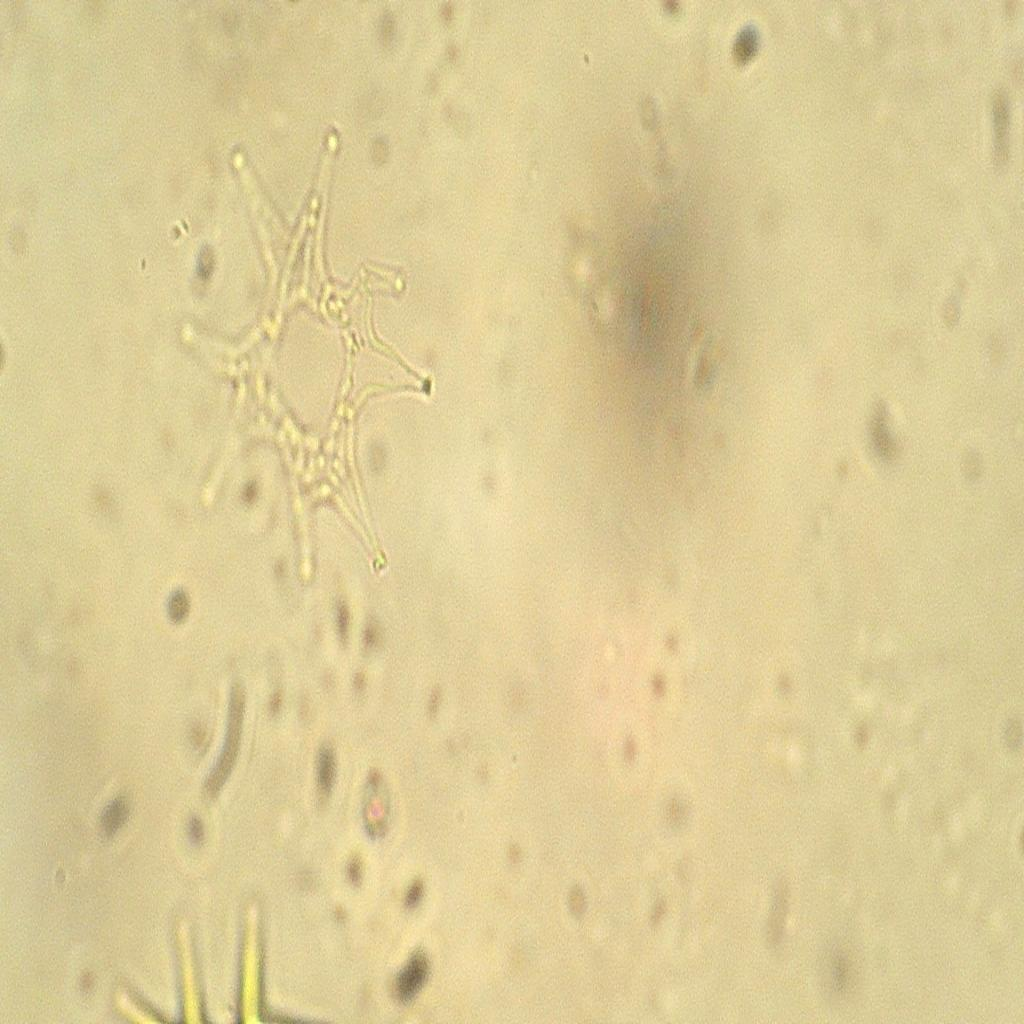Pediastrum_75TH: (175, 111, 445, 604)
